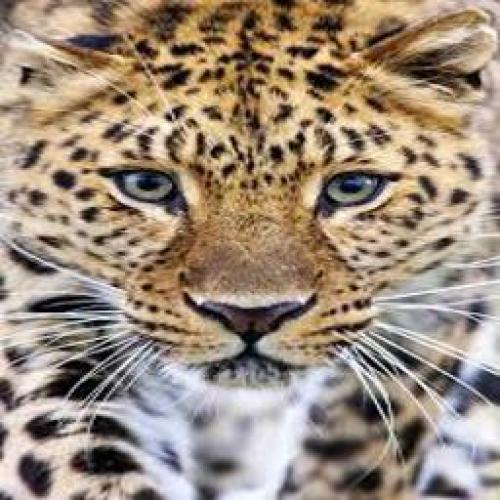amur_leopard-endangered: (15, 13, 484, 394)
